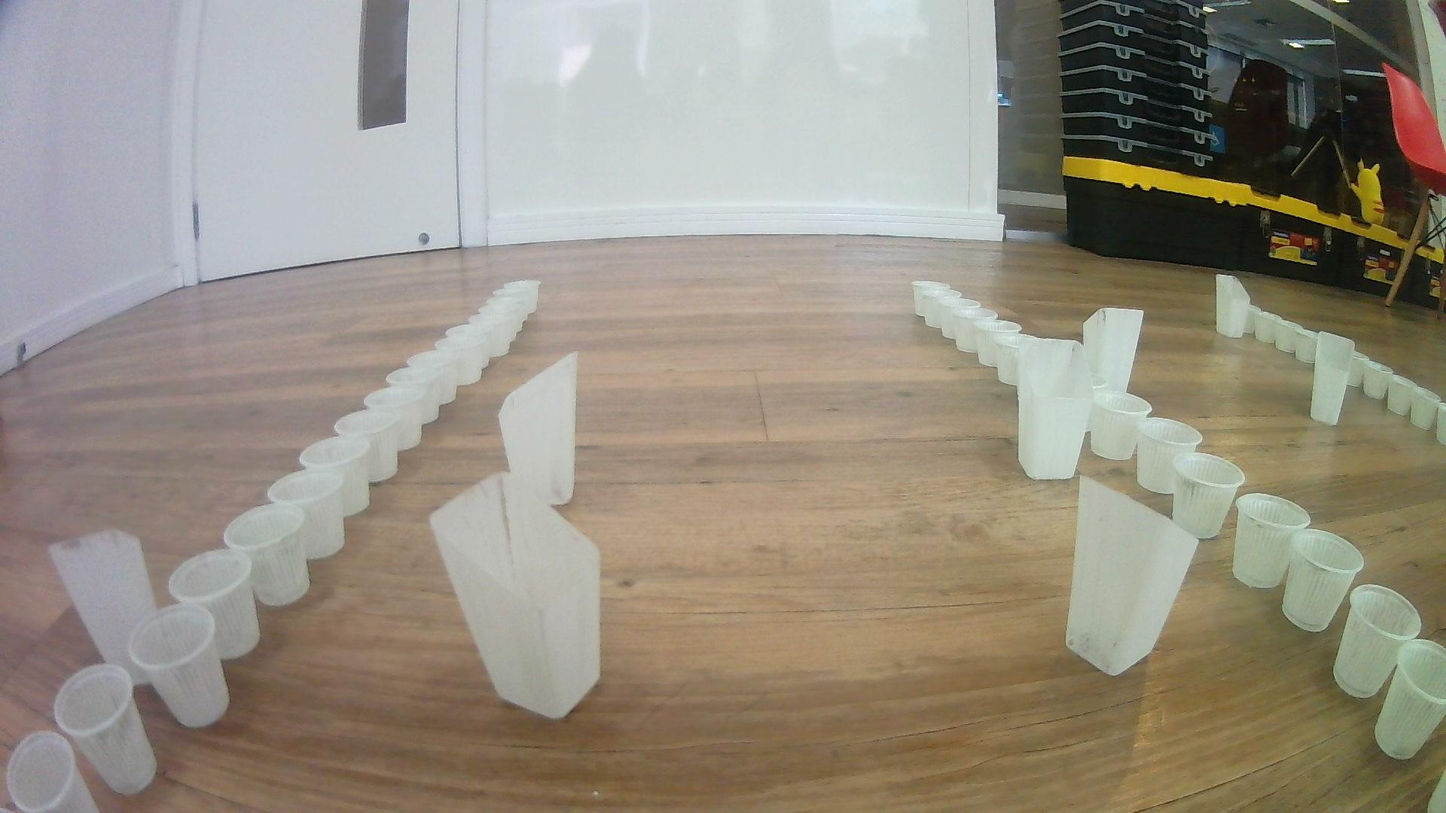erva_daninha: (429, 470, 600, 720), (1064, 473, 1200, 677), (46, 528, 163, 688), (497, 349, 579, 507), (1016, 337, 1095, 480), (1081, 306, 1146, 397), (1309, 330, 1357, 427), (1213, 273, 1254, 340)
planta: (52, 662, 159, 795), (127, 604, 230, 729), (167, 548, 262, 660), (1332, 583, 1423, 699), (223, 502, 312, 607), (1373, 638, 1446, 760), (1281, 528, 1365, 633), (4, 730, 101, 813), (1231, 493, 1311, 589), (267, 470, 348, 560), (1171, 452, 1248, 540), (298, 435, 372, 519), (332, 408, 400, 485), (1136, 417, 1203, 495), (1088, 390, 1154, 461), (363, 385, 425, 452), (386, 366, 441, 425), (406, 350, 459, 406), (428, 336, 484, 386), (994, 333, 1043, 385), (975, 320, 1023, 367), (460, 312, 509, 358), (953, 307, 1002, 353), (444, 323, 490, 368), (939, 297, 981, 340), (920, 289, 962, 329), (910, 279, 952, 318), (1409, 386, 1444, 431), (484, 295, 526, 330), (477, 303, 516, 340), (493, 288, 535, 320), (1386, 373, 1417, 416), (1362, 360, 1394, 400), (503, 279, 542, 311), (1294, 328, 1322, 364), (1274, 319, 1303, 353), (1253, 311, 1280, 343), (1347, 352, 1369, 389), (1243, 305, 1261, 335), (1435, 403, 1446, 446)
